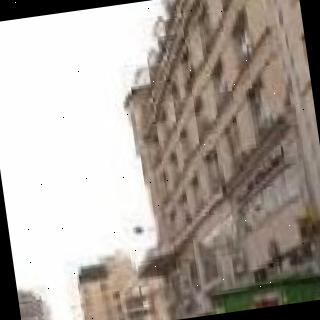smoke: (6, 199, 112, 320)
